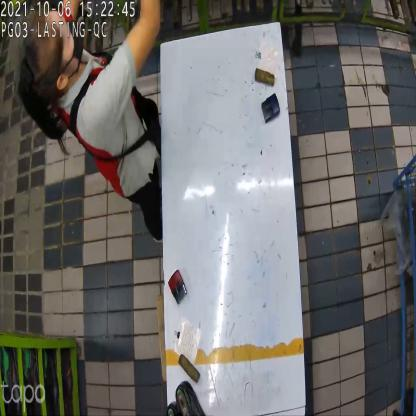stamp: (260, 92, 280, 126), (171, 271, 188, 302)
